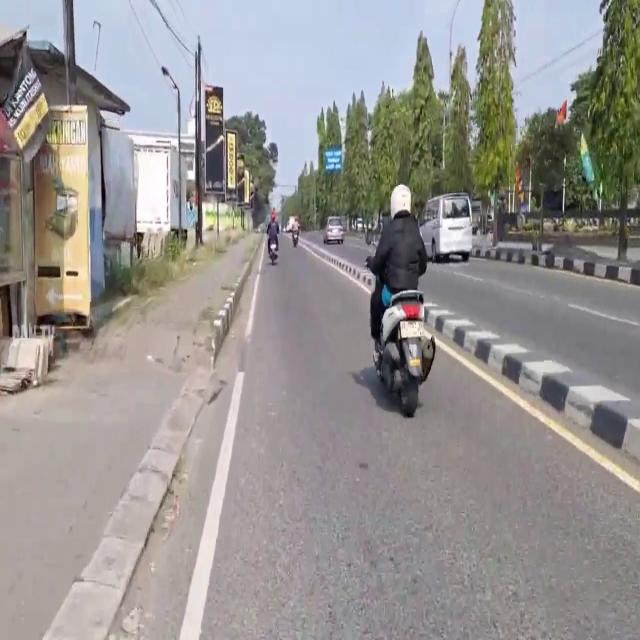WithHelmet: (366, 182, 428, 366), (267, 213, 281, 255), (292, 214, 300, 240)
